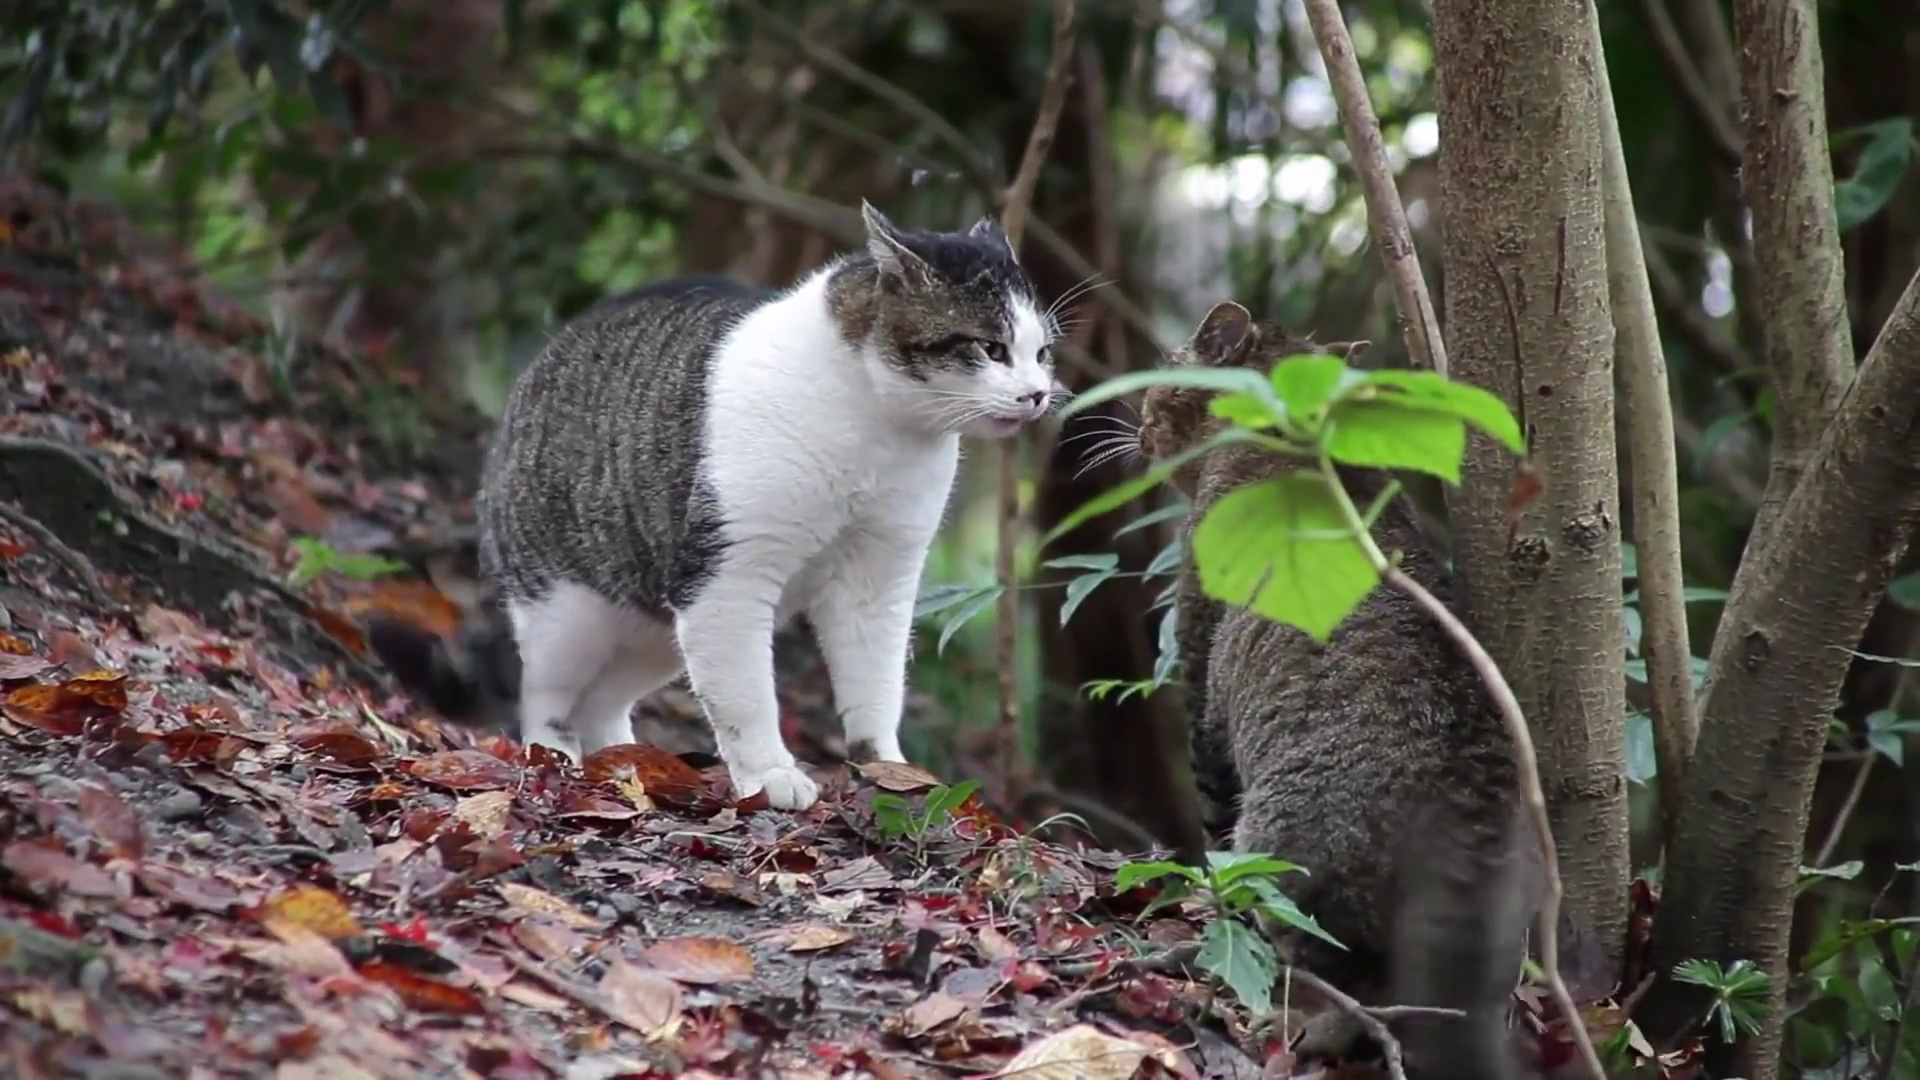black-white: (477, 196, 1055, 815)
pure black: (1138, 302, 1544, 1080)
